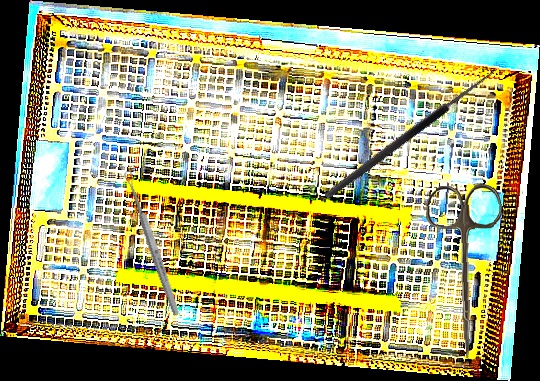Hook Surgical: (317, 57, 499, 201)
Iris Scissors: (424, 183, 510, 361)
Surgical Spoon: (122, 169, 182, 317)
